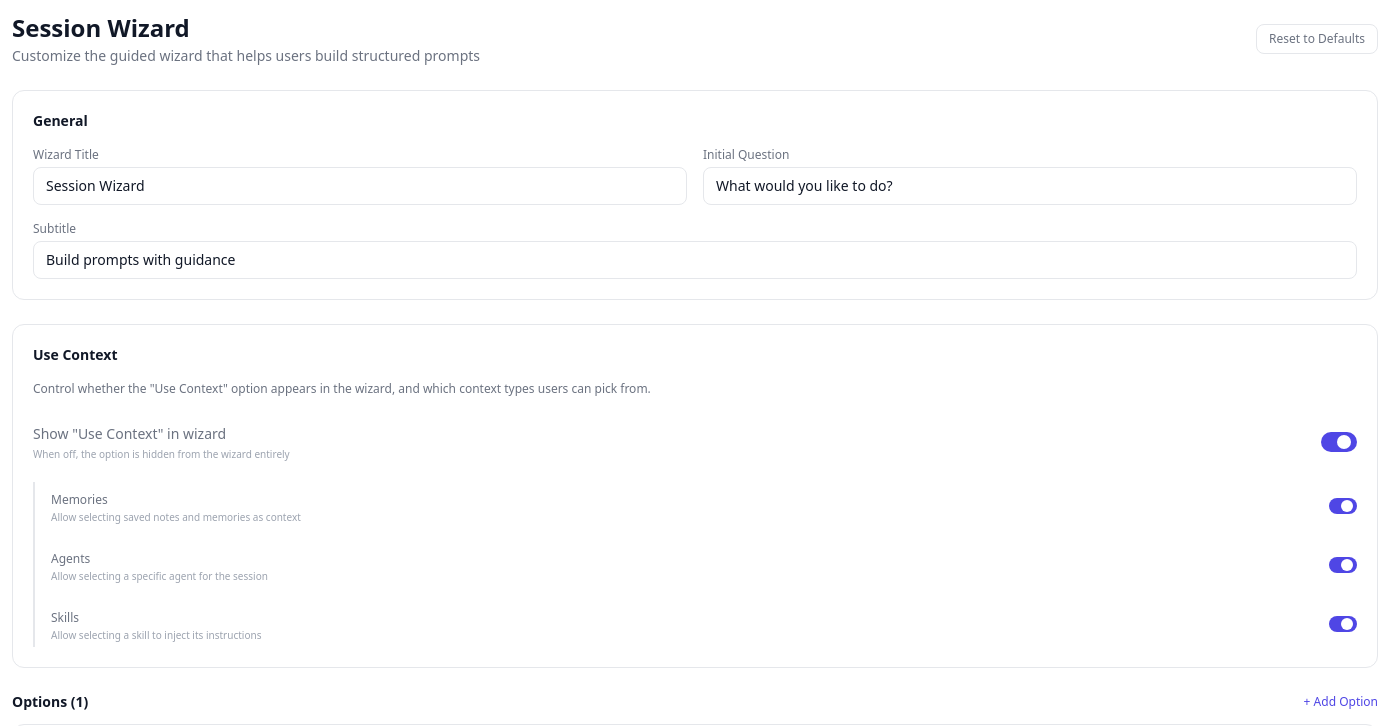
Test: WizardSettings › shows Save Changes button when config is modified
The width and height of the screenshot is (1390, 726).
Replace the text in the field showing "Session Wizard" below "Wizard Title" with "My Wizard" at (360, 186), box 33,167 -> 687,205
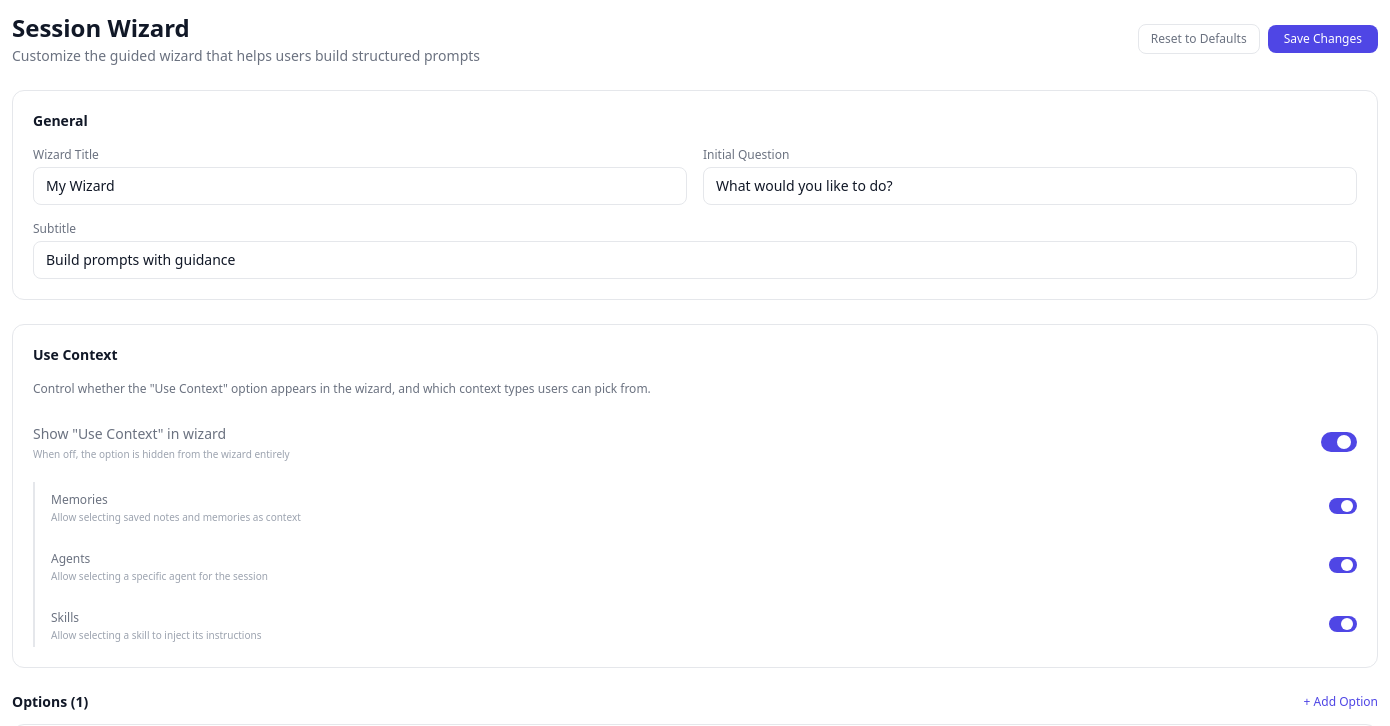
Result: the button "Save Changes" is shown at 1268,25 -> 1378,53
